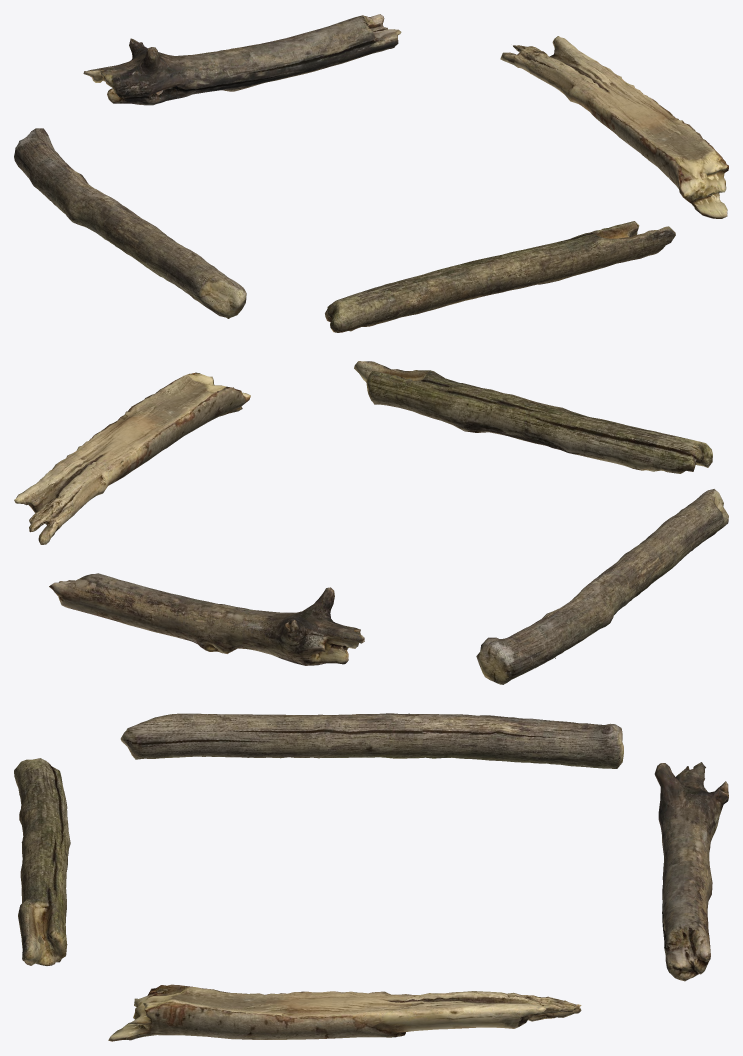
Rendered from frame.gltf.
3 views of the same model, one above another, from view 1: azimuth 30°, elevation 25°; view 2: azimuth 150°, elevation 25°; view 3: azimuth 270°, elevation 25° (orthographic). The views are drawn at different scales.
Parts seen in each view (by area): view 1: stick_06, stick_09, stick_12, stick_05; view 2: stick_06, stick_09, stick_12, stick_05; view 3: stick_05, stick_12, stick_09, stick_06.
Part boxes in pixels (box(x1,y1,x2,y2)): stick_06: box(325, 221, 675, 332); stick_09: box(83, 14, 401, 105); stick_12: box(500, 36, 728, 218); stick_05: box(14, 128, 246, 318); stick_06: box(354, 361, 712, 473); stick_09: box(49, 573, 364, 665); stick_12: box(14, 372, 250, 544); stick_05: box(476, 489, 728, 684); stick_05: box(120, 713, 623, 768); stick_12: box(108, 984, 581, 1041); stick_09: box(654, 762, 728, 981); stick_06: box(14, 758, 70, 965).
Size of the model in its own units: 39.19 by 5.37 by 38.53.
Materials: 4 (4 with a texture image).
